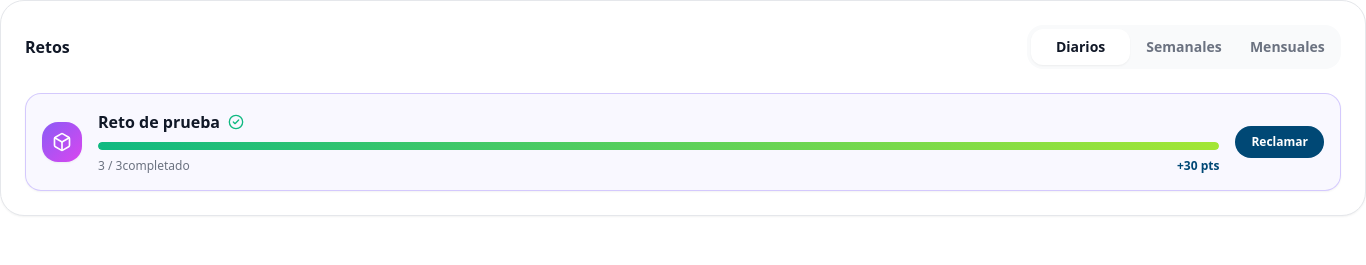
Test case: ChallengesBoard – HU-GAM-05: Participar en retos de sostenibilidad › muestra "Recompensa reclamada." tras una reclamación exitosa
Click the button "Reclamar".
click(1280, 142)  # box [1235,126,1324,158]
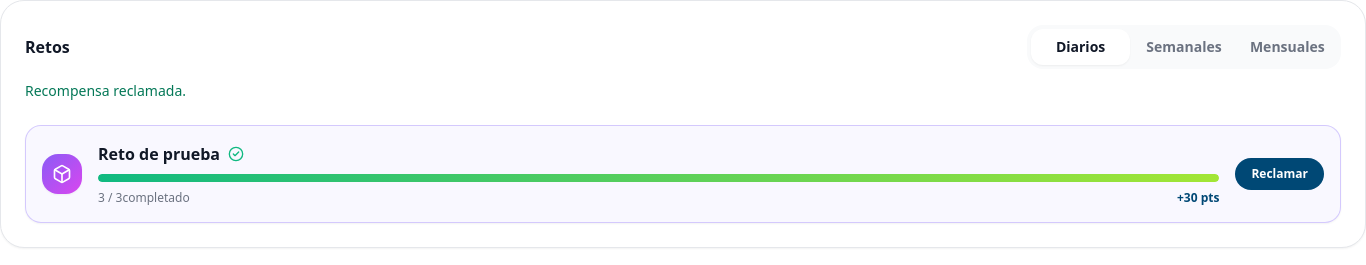
Result: the text "Recompensa reclamada." is shown at [25,81,186,100]
